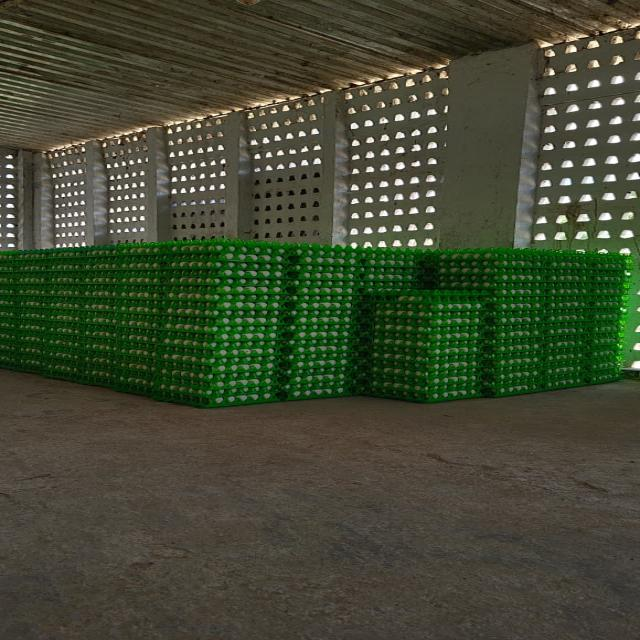egg_tray: (438, 250, 628, 394), (533, 30, 639, 254), (534, 30, 639, 253), (154, 241, 285, 406), (156, 241, 284, 406), (288, 246, 416, 397), (343, 70, 446, 248), (18, 248, 140, 384), (65, 244, 161, 394), (366, 290, 484, 402), (487, 296, 621, 394), (164, 242, 285, 346), (247, 96, 332, 242), (81, 244, 162, 394), (282, 246, 361, 399), (483, 322, 619, 394), (436, 249, 628, 294), (154, 338, 278, 406), (154, 339, 279, 406), (154, 340, 279, 406), (545, 284, 625, 381), (281, 298, 358, 398), (166, 293, 284, 356), (168, 118, 228, 240), (290, 245, 435, 292), (483, 293, 548, 396), (287, 247, 361, 337), (483, 294, 548, 396), (166, 241, 285, 296), (162, 292, 284, 342), (369, 290, 486, 341), (0, 252, 47, 372), (282, 324, 358, 398), (2, 253, 50, 370), (102, 132, 149, 244), (153, 365, 281, 406), (0, 252, 43, 371), (280, 338, 356, 398), (46, 145, 87, 247), (282, 344, 355, 399), (361, 369, 481, 402), (167, 259, 285, 290), (287, 295, 356, 340), (362, 248, 438, 288), (163, 239, 286, 262), (0, 150, 18, 252), (626, 304, 638, 356), (130, 346, 143, 356), (126, 264, 140, 272), (140, 247, 152, 254), (575, 340, 582, 348), (575, 340, 580, 348), (255, 352, 264, 356), (194, 356, 199, 362), (57, 282, 63, 286), (557, 370, 563, 373), (78, 274, 81, 278), (332, 290, 338, 292), (185, 344, 190, 346), (0, 205, 2, 209), (291, 288, 295, 290), (318, 302, 321, 304), (279, 392, 280, 398), (344, 291, 350, 292), (580, 382, 584, 383), (61, 272, 62, 275), (193, 297, 196, 298), (68, 256, 70, 257), (253, 243, 255, 244), (520, 389, 521, 390), (511, 390, 512, 390), (334, 336, 336, 336), (230, 365, 230, 367), (154, 277, 154, 277), (248, 290, 250, 290), (304, 292, 306, 292)
